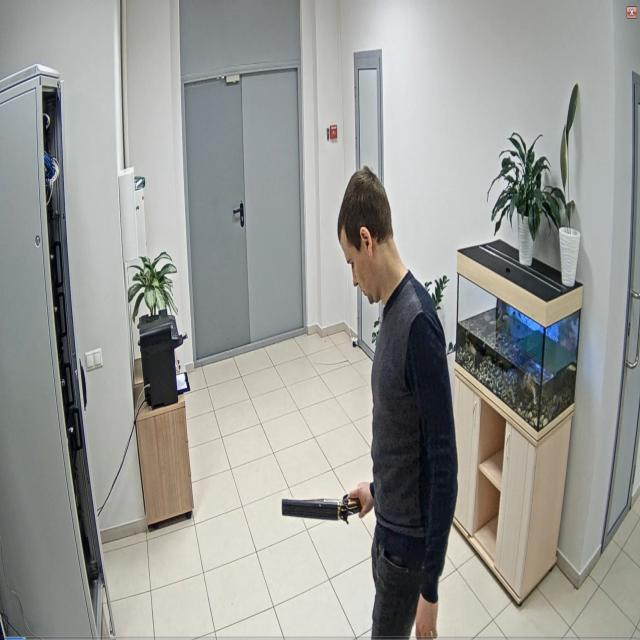-Gun: (282, 497, 363, 524)
